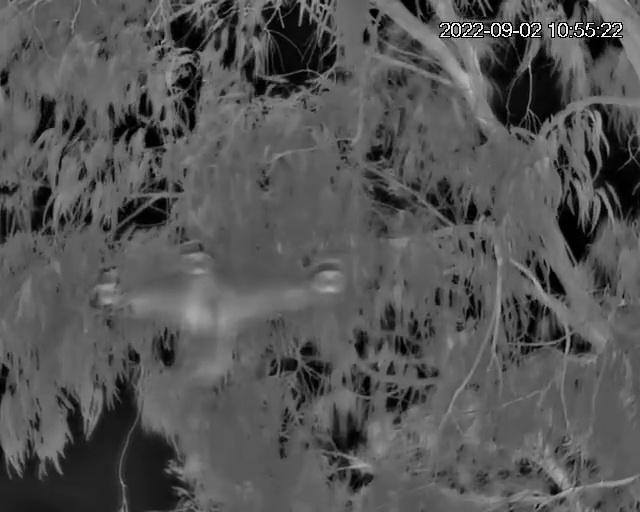DJI-Phantom: (92, 255, 348, 383)
